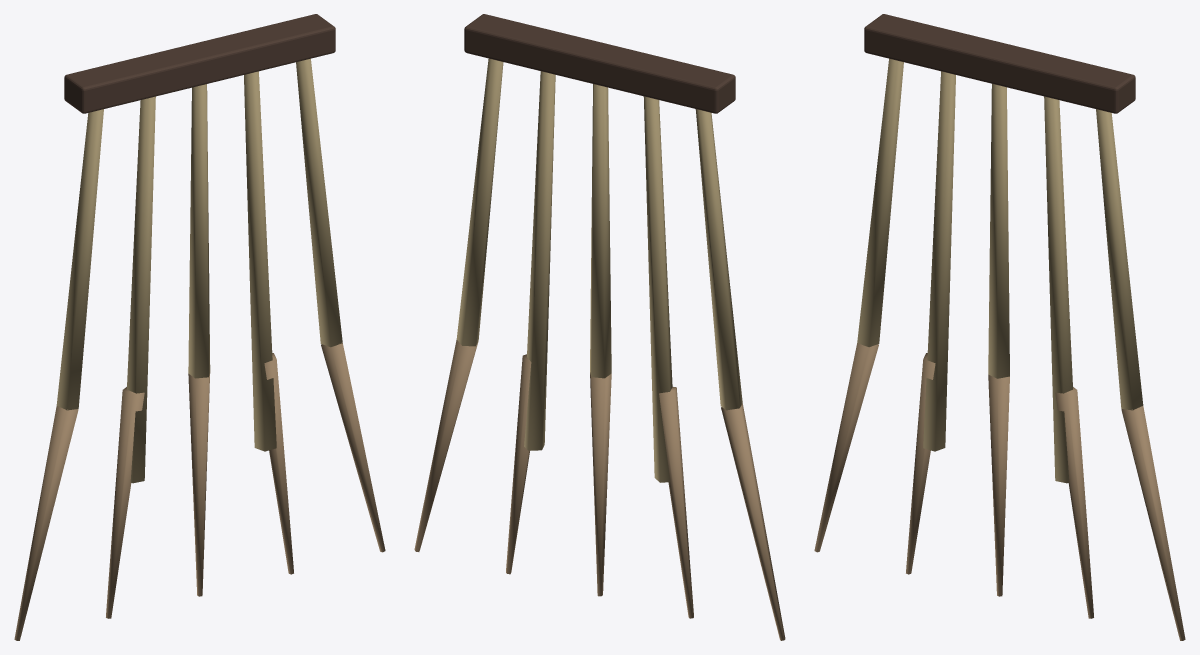
The model's file is hanging_herbs_root_bundle.glb.
3 renders of one model, left to right at view 1: azimuth 30°, elevation 25°; view 2: azimuth 150°, elevation 25°; view 3: azimuth 330°, elevation 25°, orthographic.
Visible parts, largest first — view 1: GD_hanging_herbs_root_bundle__m1, GD_hanging_herbs_root_bundle__m2, GD_hanging_herbs_root_bundle__m0; view 2: GD_hanging_herbs_root_bundle__m1, GD_hanging_herbs_root_bundle__m2, GD_hanging_herbs_root_bundle__m0; view 3: GD_hanging_herbs_root_bundle__m1, GD_hanging_herbs_root_bundle__m2, GD_hanging_herbs_root_bundle__m0.
Boxes of the visible parts, box(x1,y1,x2,y2) form: GD_hanging_herbs_root_bundle__m1: box(56, 58, 342, 483); GD_hanging_herbs_root_bundle__m2: box(14, 343, 385, 640); GD_hanging_herbs_root_bundle__m0: box(64, 14, 335, 113); GD_hanging_herbs_root_bundle__m1: box(456, 58, 742, 482); GD_hanging_herbs_root_bundle__m2: box(414, 339, 785, 640); GD_hanging_herbs_root_bundle__m0: box(464, 14, 735, 113); GD_hanging_herbs_root_bundle__m1: box(857, 58, 1143, 483); GD_hanging_herbs_root_bundle__m2: box(814, 343, 1185, 640); GD_hanging_herbs_root_bundle__m0: box(864, 14, 1135, 113).
Bounding box in the file's own units: 0.4375 × 0.6157 × 0.04.
